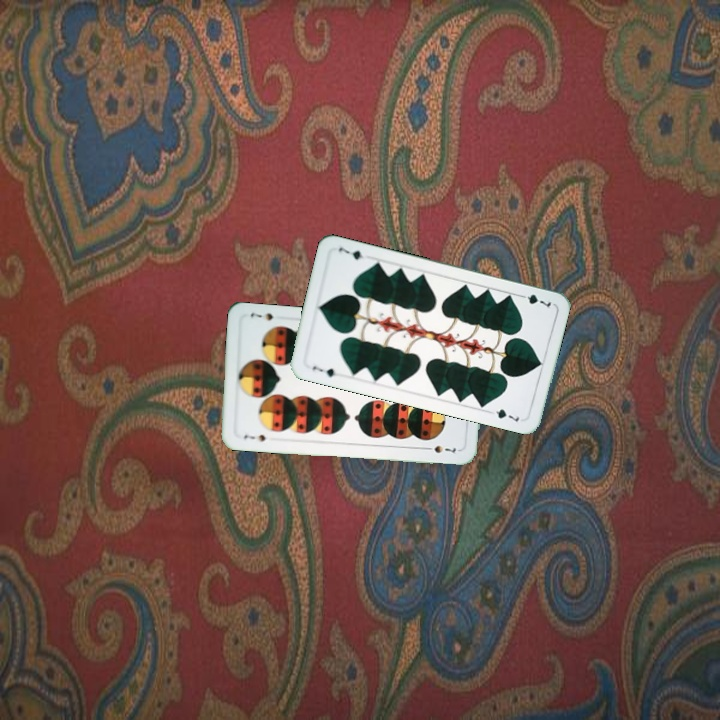G7: (515, 290, 554, 310), (308, 362, 338, 380)
S7: (240, 430, 268, 444)
